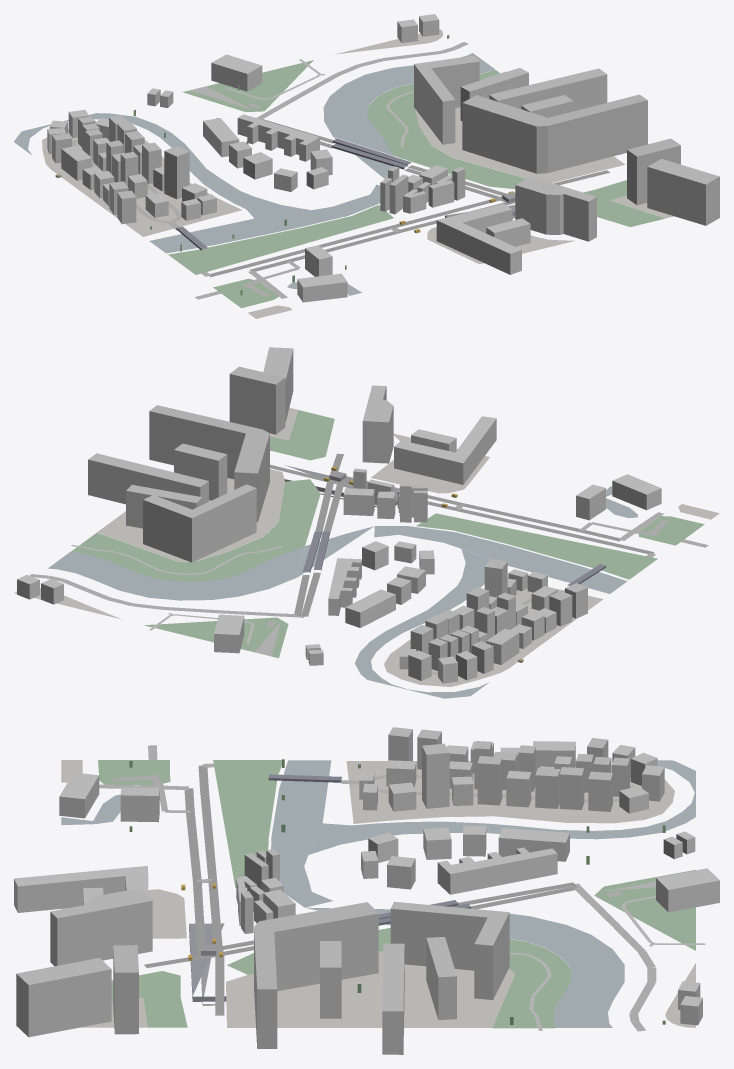
3 views of the same model, one above another, from view 1: azimuth 30°, elevation 25°; view 2: azimuth 150°, elevation 25°; view 3: azimuth 270°, elevation 25° (orthographic). The views are drawn at different scales.
Bounding box in the file's own units: 577 × 71.8 × 556.
